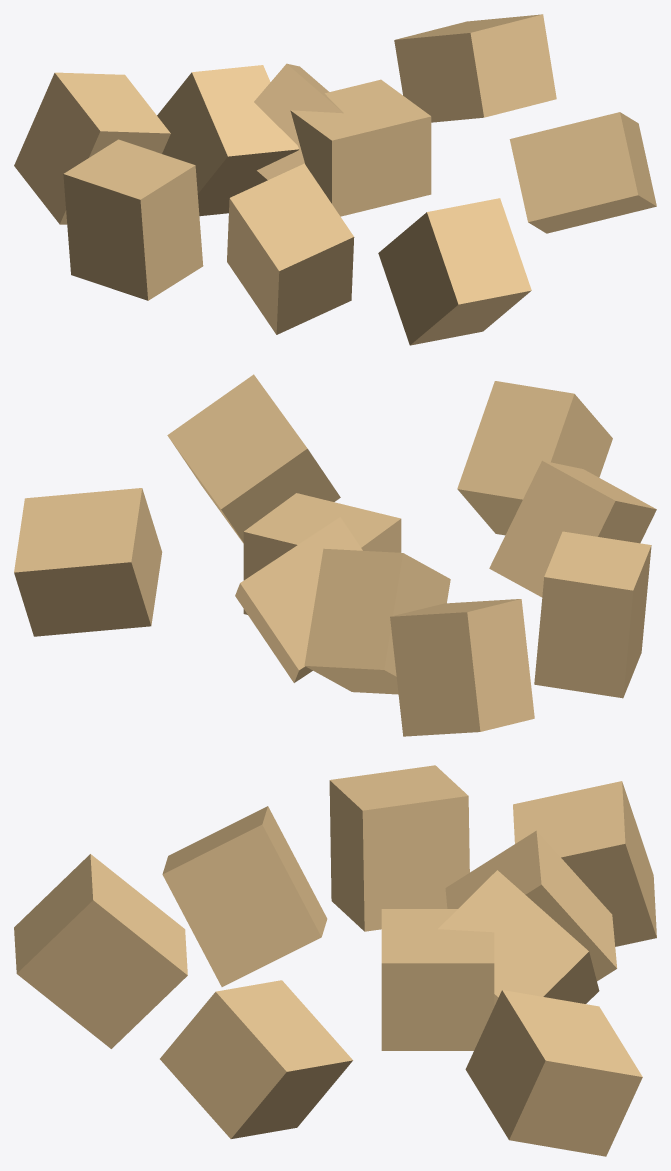
File: TopGranola.fbx
3 renders of one model, top to bottom at view 1: azimuth 30°, elevation 25°; view 2: azimuth 150°, elevation 25°; view 3: azimuth 270°, elevation 25°, orthographic. The views are drawn at different scales.
Visible parts, largest first — view 1: TopGranola; view 2: TopGranola; view 3: TopGranola.
Part boxes in pixels (bbox=[...]): TopGranola: bbox=[14, 14, 656, 345]; TopGranola: bbox=[14, 374, 656, 736]; TopGranola: bbox=[14, 765, 656, 1156].
Size of the model in its own units: 0.085 by 0.0236 by 0.0798.
